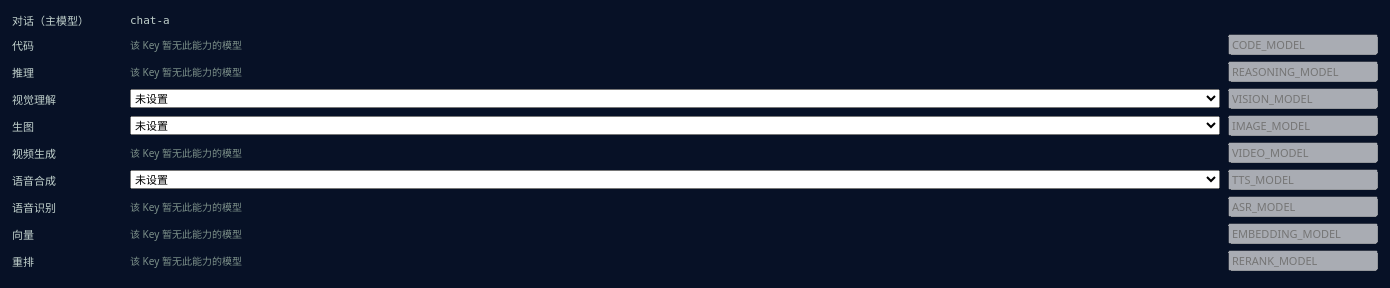
Test: CapabilityModelsEditor › fills the default variable name on pick, keeps edits, and clears the row when unset
Expected: the field named "生图 环境变量名" is disabled, [1228,115,1378,136]
Select "img-a" in the dropdown named "生图 默认模型" at (675, 126), box [130,116,1220,135]
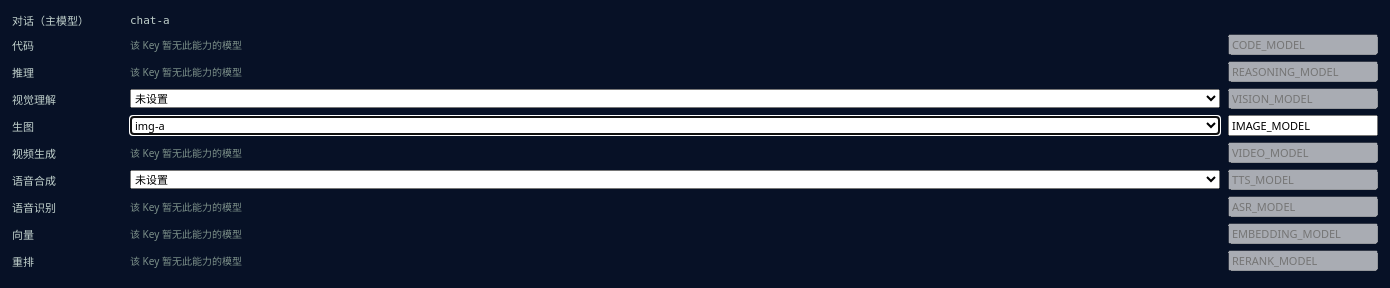
Result: the field named "生图 环境变量名" holds "IMAGE_MODEL"
Type "my_image" into the field named "生图 环境变量名" at (1303, 126), box [1228,115,1378,136]
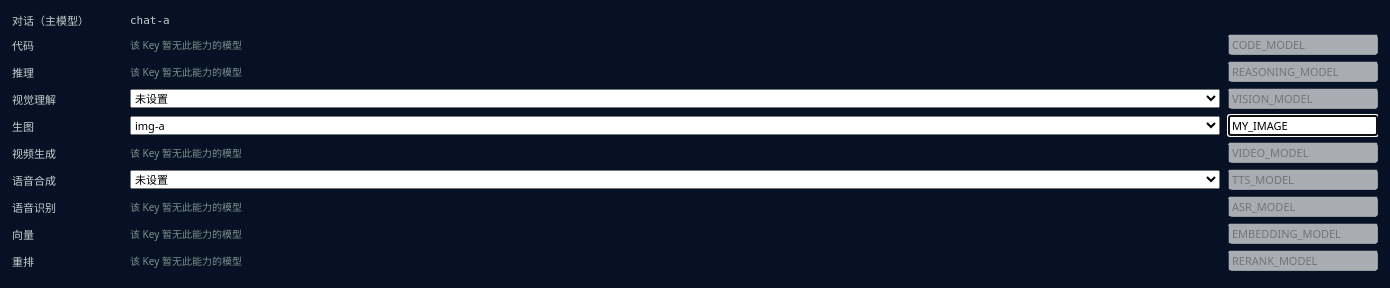
Select "img-b" in the dropdown named "生图 默认模型" at (675, 126), box [130,116,1220,135]
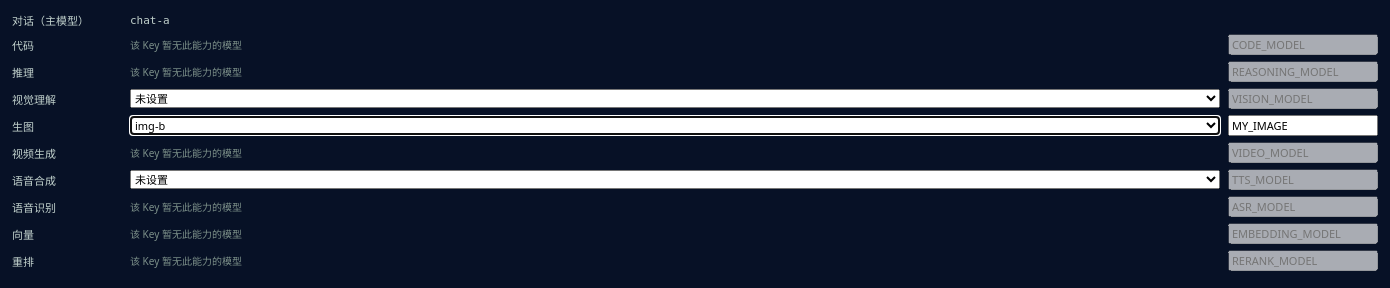
Select "未设置" in the dropdown named "生图 默认模型" at (675, 126), box [130,116,1220,135]
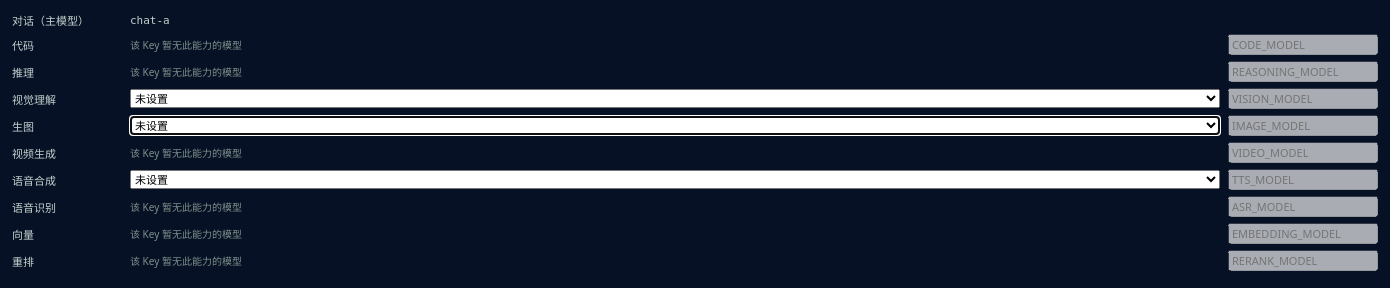
Result: the field named "生图 环境变量名" is disabled at [1228,115,1378,136]
